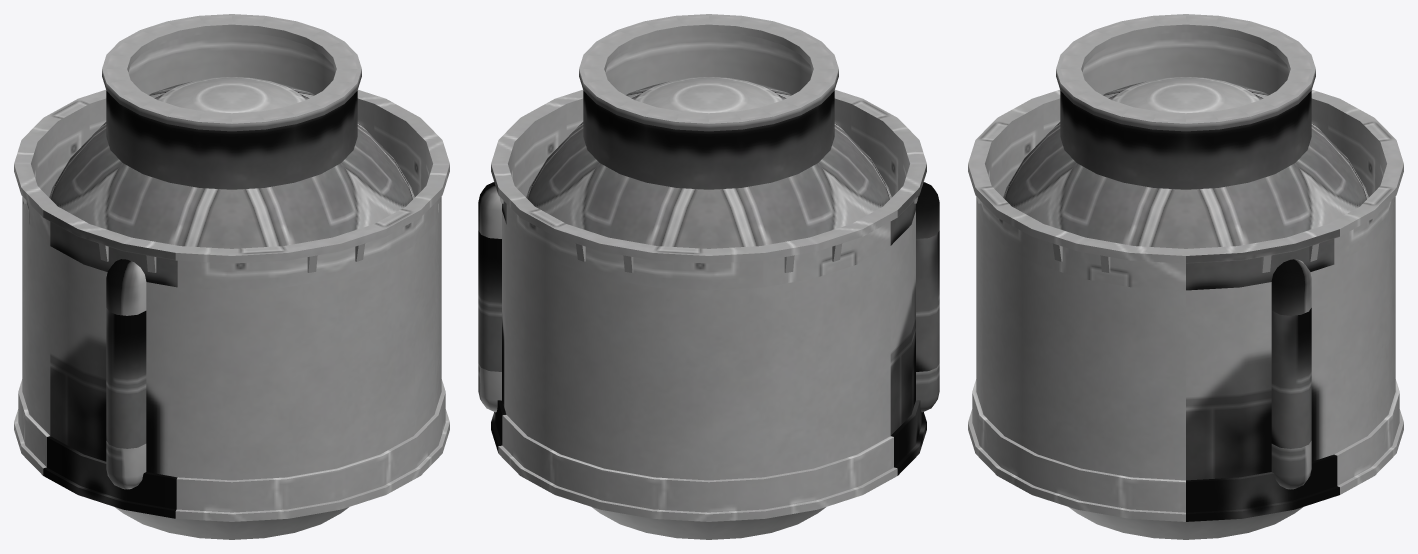
The model's file is us big tank.obj.
The picture shows the model from 3 angles, left to right: view 1: azimuth 30°, elevation 25°; view 2: azimuth 150°, elevation 25°; view 3: azimuth 270°, elevation 25°; orthographic projection.
Visible parts, largest first — view 1: big; view 2: big; view 3: big.
Boxes of the visible parts, left/top/right/bottom form: big: left=14, top=14, right=449, bottom=539; big: left=478, top=14, right=939, bottom=539; big: left=968, top=14, right=1403, bottom=539.
Bounding box in the file's own units: 2.6 × 2.75 × 2.6.
